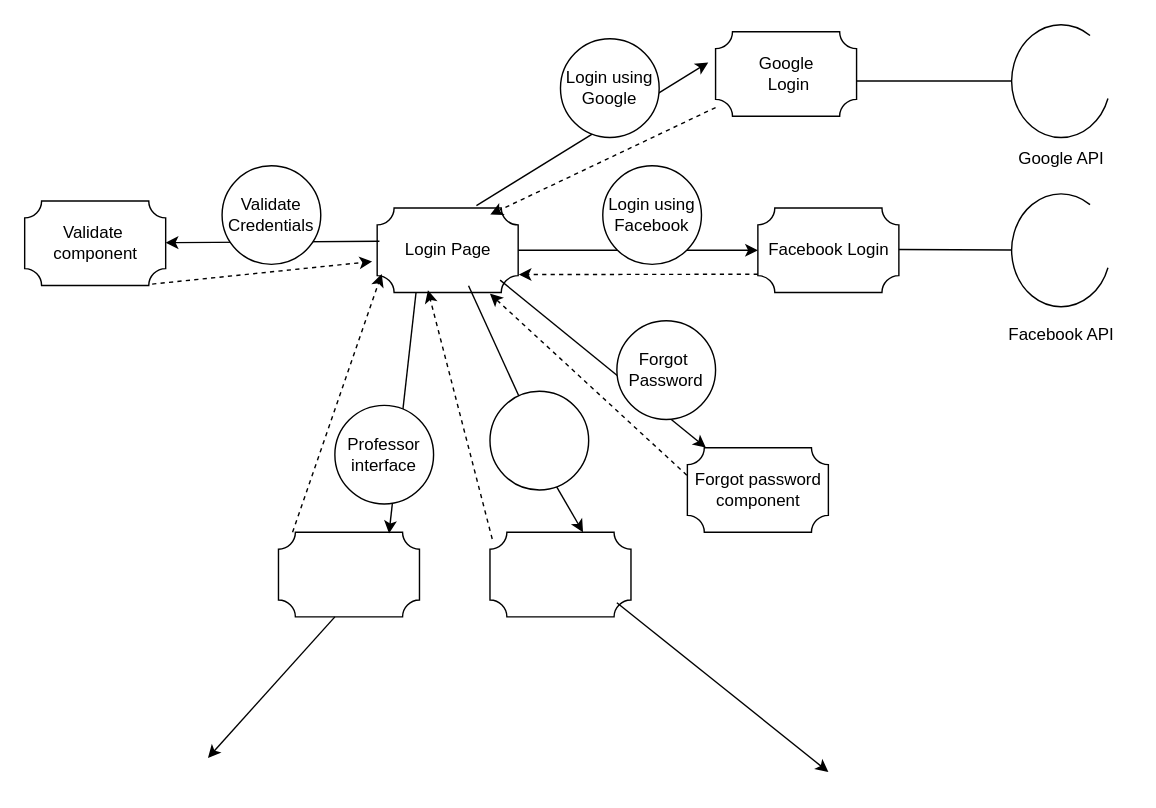
The diagram is 1156 pixels wide and 808 high, and some of its shapes have lost their labels. Each missing label, with the centre of its shape:
"Professor interface component" goes at (x=348, y=574).
"Student interface" goes at (x=539, y=440).
"Student interface Component" goes at (x=560, y=574).
